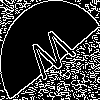W: (25, 24, 82, 90)
